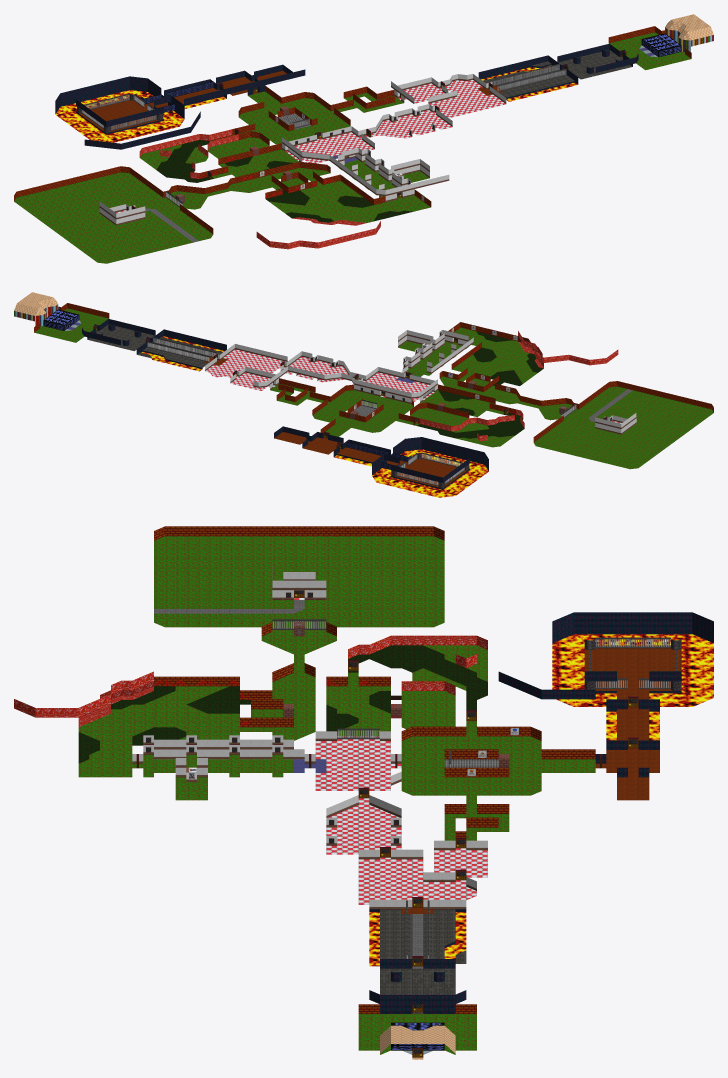
3 renders of one model, top to bottom at view 1: azimuth 30°, elevation 25°; view 2: azimuth 150°, elevation 25°; view 3: azimuth 270°, elevation 25°, orthographic. The views are drawn at different scales.
Visible parts, largest first — view 1: E1M2, level_warp.003, E1M2_invisible; view 2: E1M2, level_warp.003, E1M2_invisible; view 3: E1M2.
Boxes of the visible parts, x1,y1,x2,y2 form: E1M2: (14, 14, 713, 263); level_warp.003: (641, 33, 681, 57); E1M2_invisible: (140, 81, 213, 112); E1M2: (14, 292, 713, 497); level_warp.003: (43, 309, 79, 330); E1M2_invisible: (346, 441, 411, 469); E1M2: (14, 526, 713, 1059).
Bounding box in the file's own units: 236 × 6.5 × 130.
Materials: 32 (32 with a texture image).
